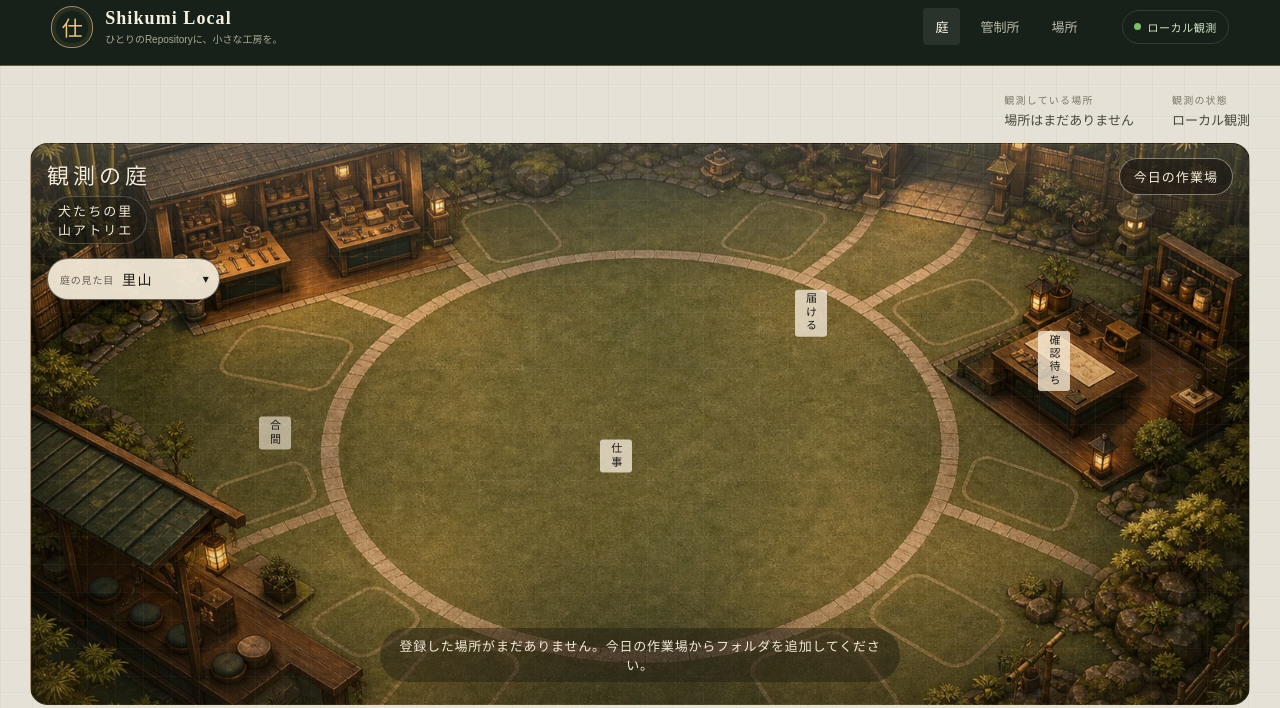
Test case: Shikumi Local garden › registers a repository through the local server without leaving the garden
Click the link "場所": (1064, 28) left=1052, top=20, right=1078, bottom=35
(page scrolled)
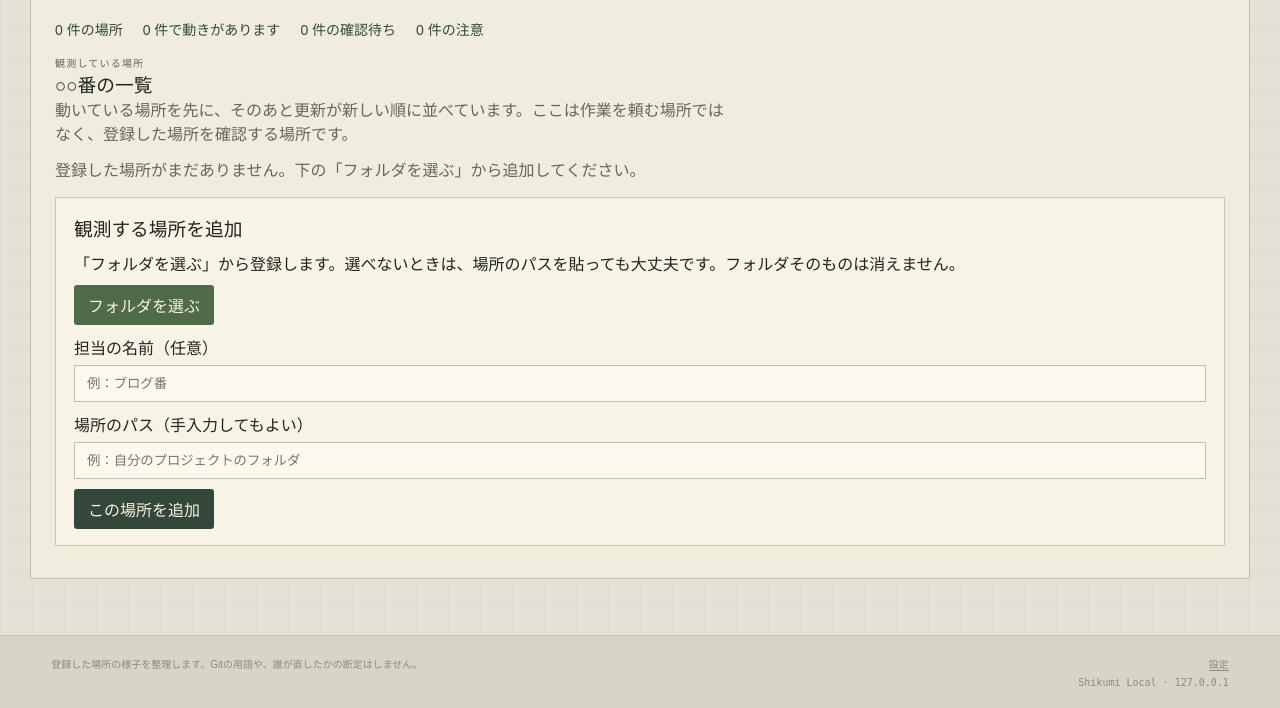
In the field labelled "場所のパス": (640, 460) left=74, top=442, right=1206, bottom=479, type "/Users/example/my-project"
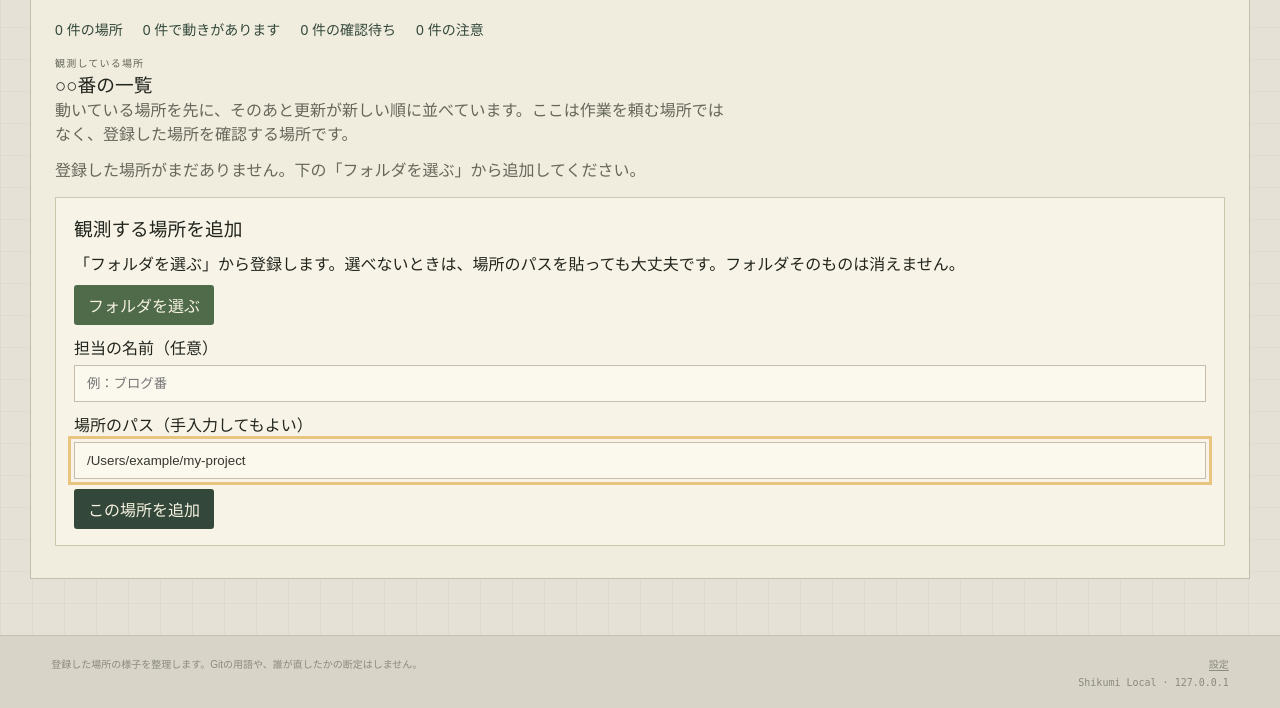
Click the button "この場所を追加": (144, 509) left=74, top=489, right=214, bottom=529
(page scrolled)
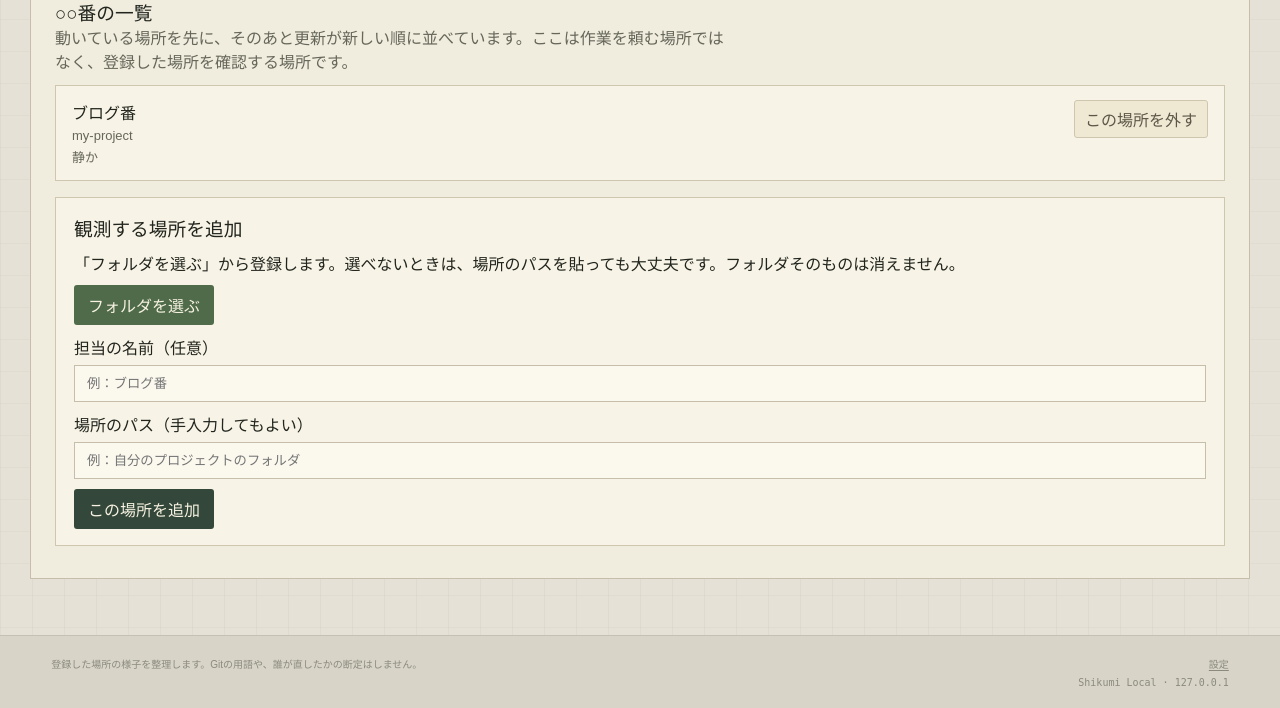
Click the link "設定": (1219, 663) left=1209, top=656, right=1229, bottom=671
(page scrolled)
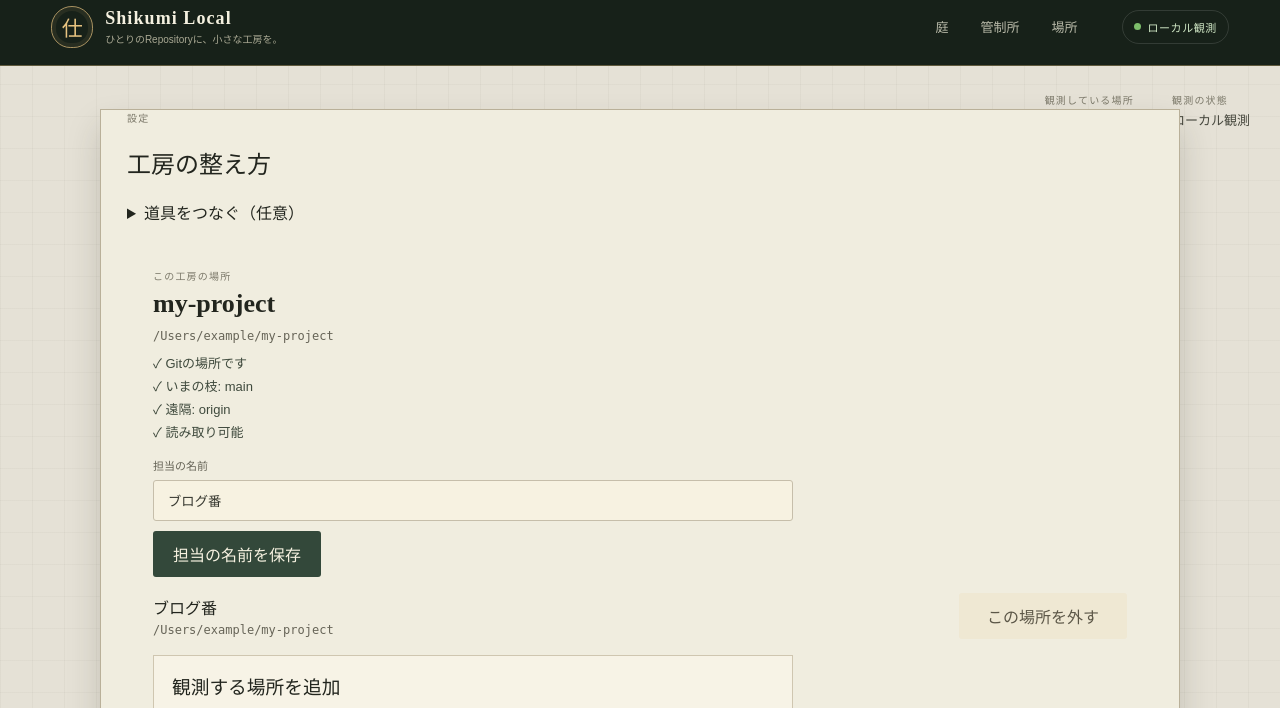
Now the list item "✓ Gitの場所です" is shown, box left=153, top=356, right=247, bottom=371
Now the list item "✓ いまの枝: main" is shown, box left=153, top=379, right=253, bottom=394
Click the link "庭": (942, 28) left=936, top=20, right=948, bottom=35
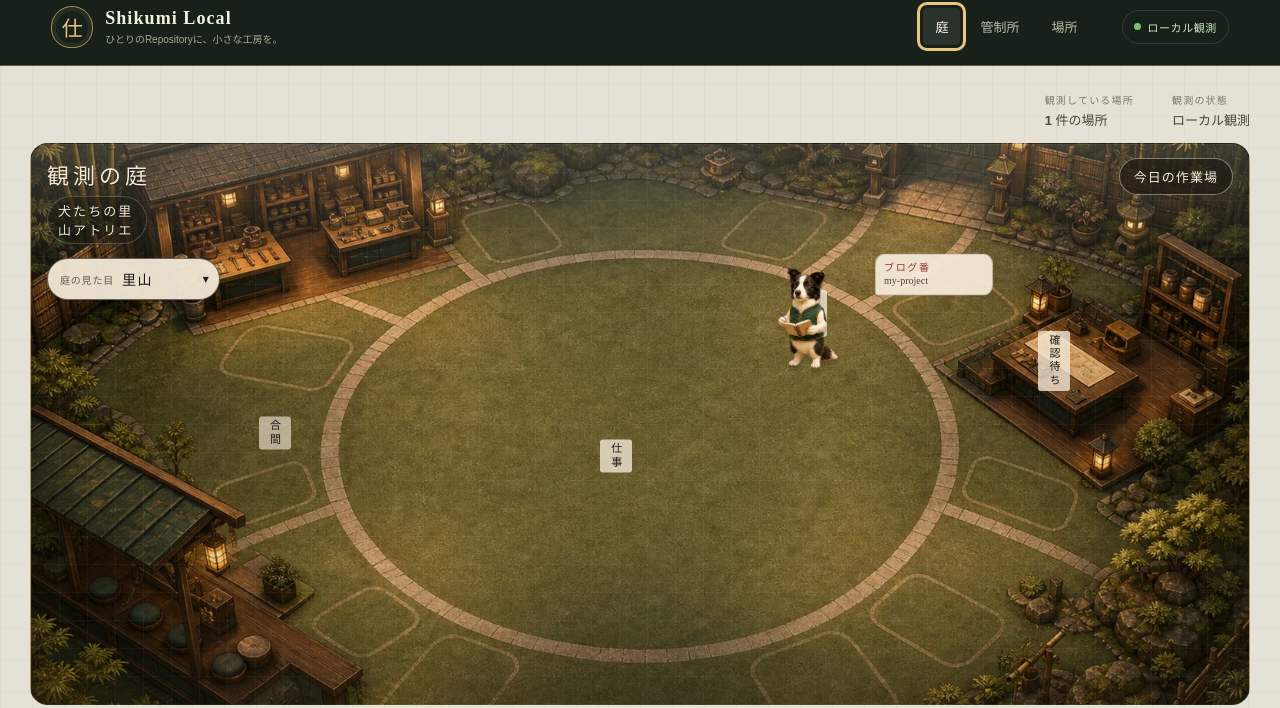
Expected: the element with test id "connection-badge" reads "ローカル観測", left=1148, top=22, right=1217, bottom=34
Now the heading "観測の庭" is shown, box left=47, top=164, right=151, bottom=189
